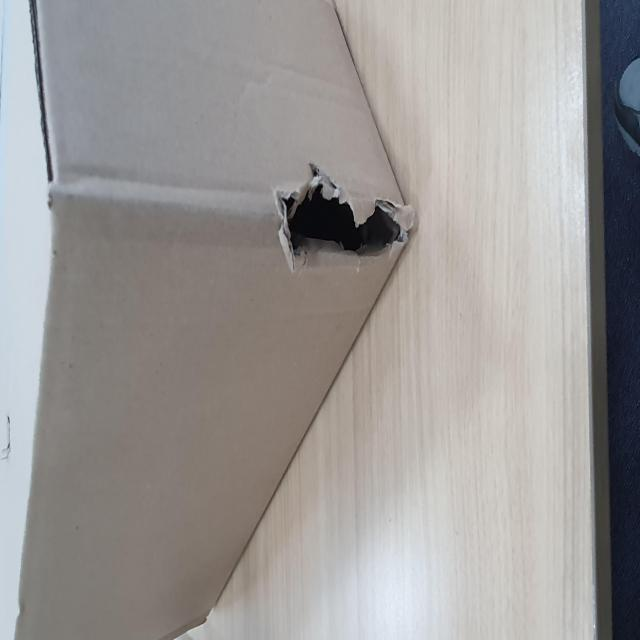damaged: (203, 489, 272, 640)
